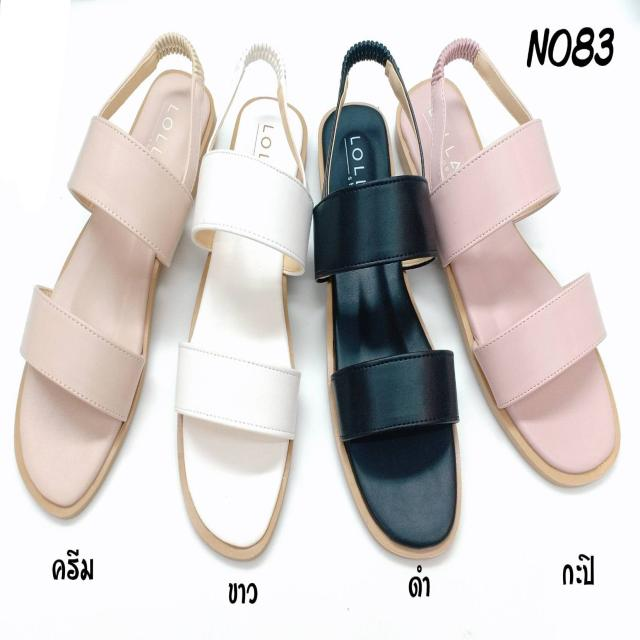black: (316, 106, 456, 553)
cream: (16, 67, 210, 527)
kapi: (400, 79, 619, 485)
white: (175, 97, 305, 549)
